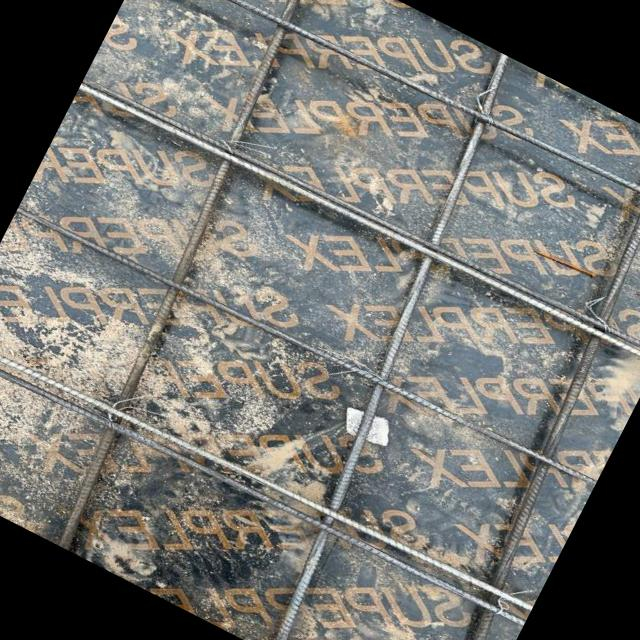ribbed bar: (210, 53, 575, 640), (18, 0, 362, 552), (15, 190, 598, 504), (79, 69, 640, 380), (82, 62, 640, 373), (0, 315, 534, 629), (0, 330, 526, 640), (378, 138, 640, 640), (144, 0, 640, 252)
